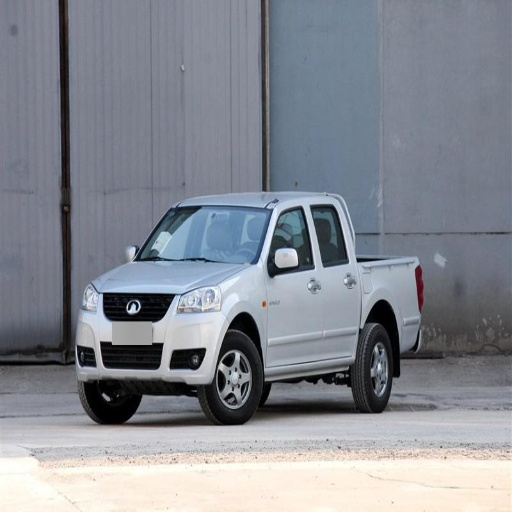back_left_door: (308, 204, 355, 356)
front_bumper: (76, 290, 228, 389)
front_glass: (134, 206, 269, 262)
front_left_door: (265, 204, 322, 365)
trunk: (360, 263, 420, 351)
